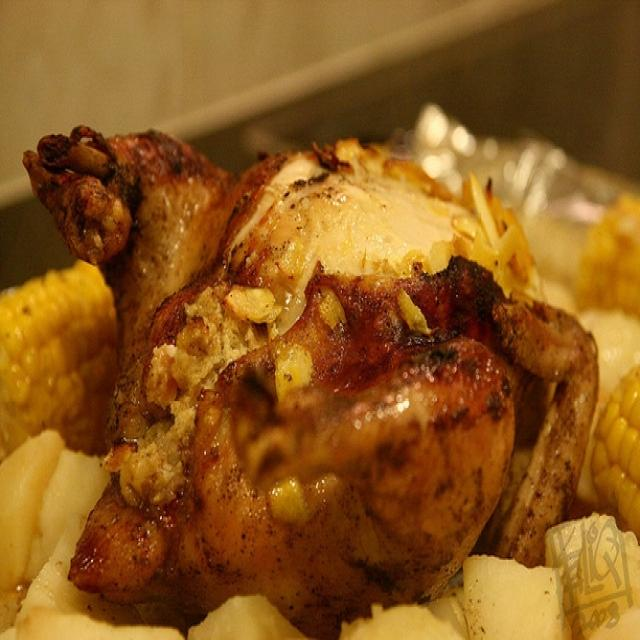鸡肉料理 含炸鸡: (13, 63, 628, 626)
